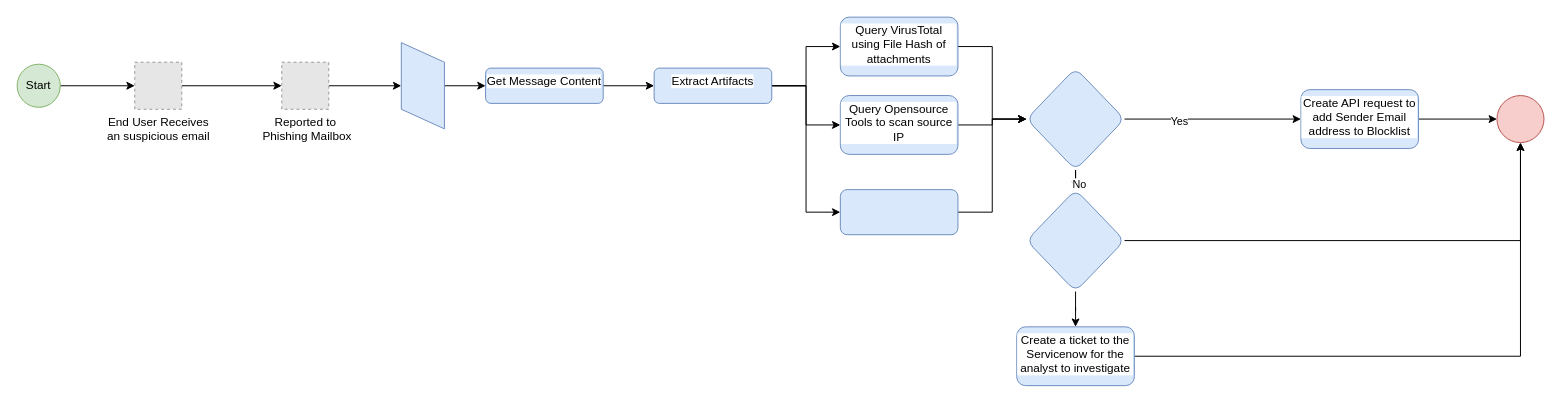
The diagram is 1561 pixels wide and 403 high, and some of its shapes have lost their labels. Grey dashed boxes stand in for pictures. The centre of each missing label's shape, as x and y in pixels:
As per set of rules is this malicious?: (1075,118)
End: (1520,119)
Extract Information like MessageID, Links: (898,212)
Power Automate Event Trigger: (422,85)
Somehow malicious?: (1075,240)
